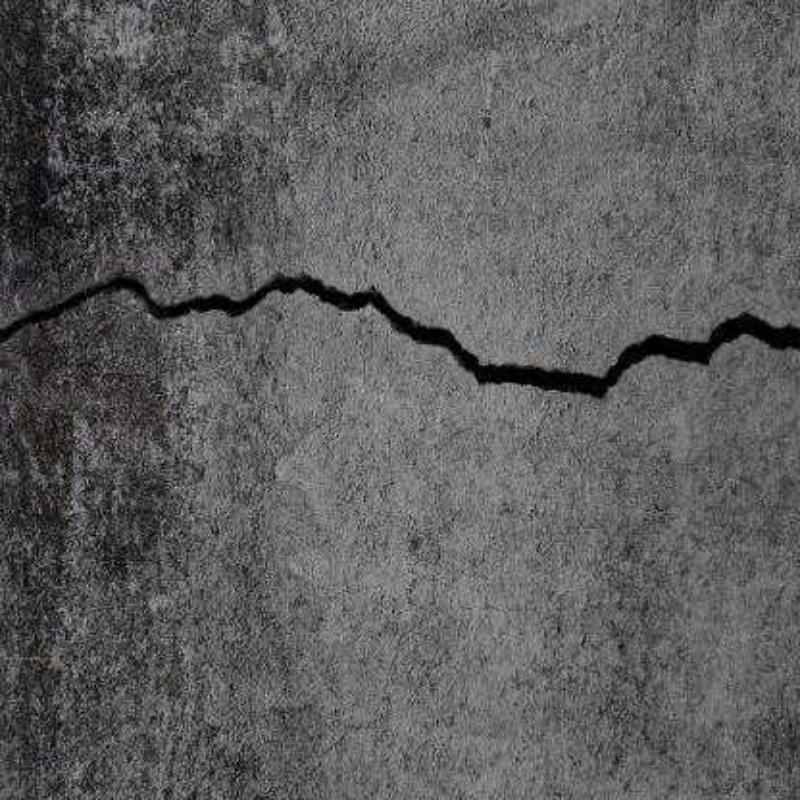pothole: (2, 271, 800, 400)
